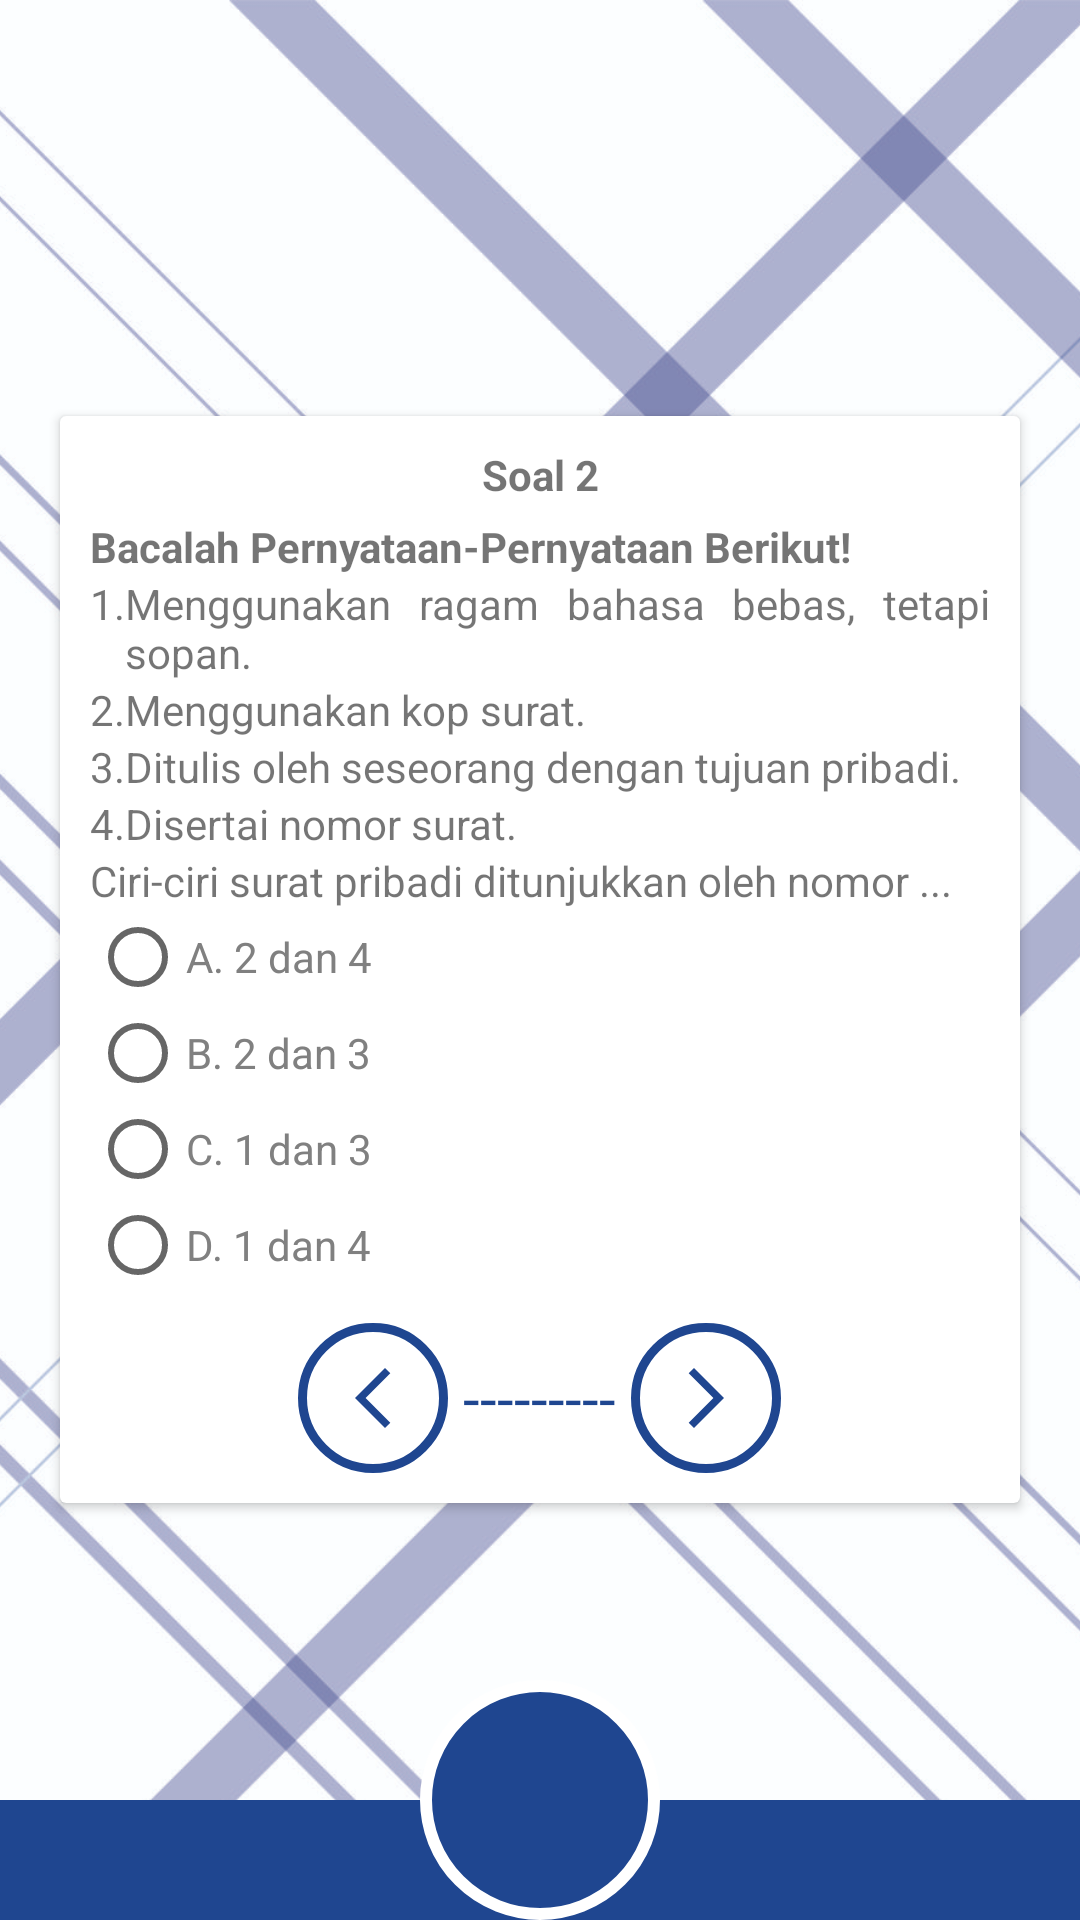

Icons on this 1080 x 1920 Android screen, each with the point to tap as [x,y]:
arrow back: [373,1398]
arrow forward: [706,1398]
